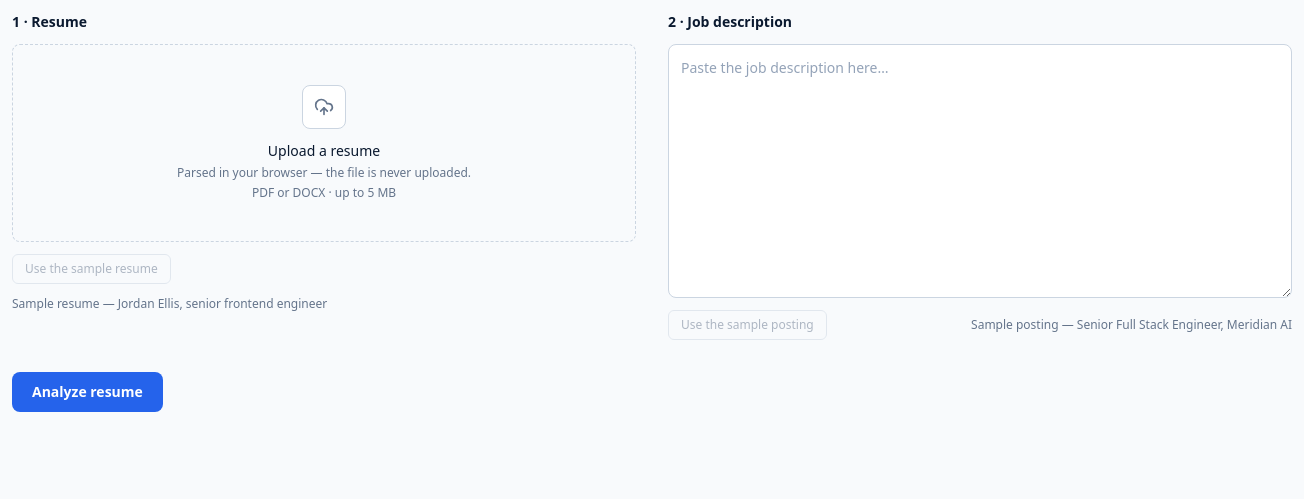
Test case: gate failures render safe copy only › shows a generic sentence when the transport itself throws
Click the button "Analyze resume" at (87, 392), box left=12, top=372, right=163, bottom=412
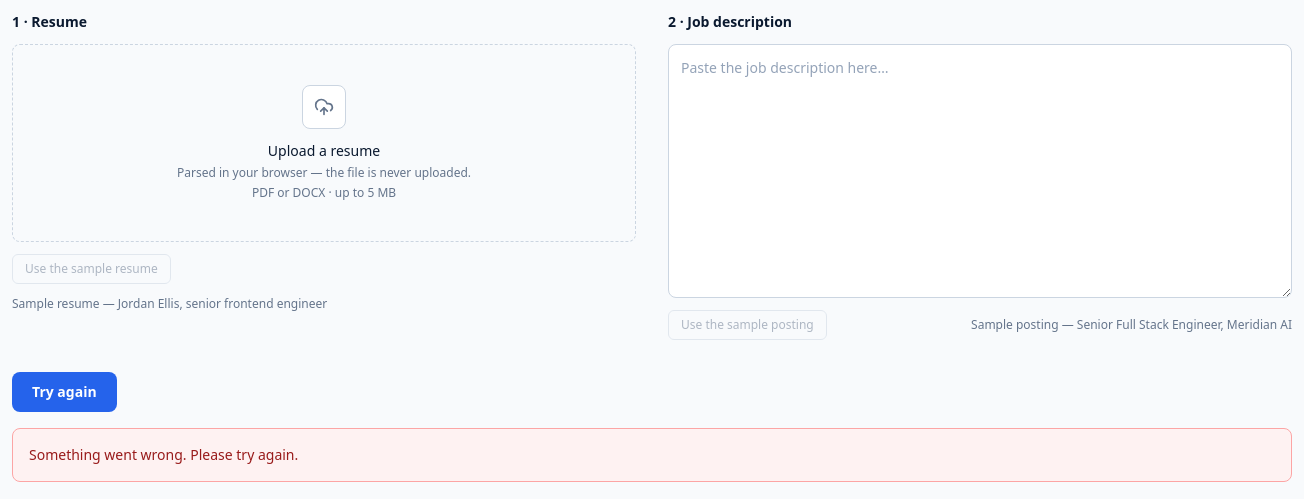
Check: the message "Something went wrong. Please try again." is shown, box left=12, top=428, right=1292, bottom=482
